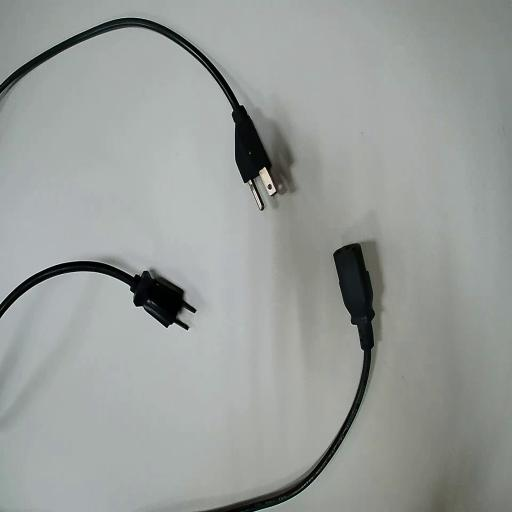wire: (0, 19, 276, 187), (211, 244, 374, 511), (0, 262, 194, 327)
